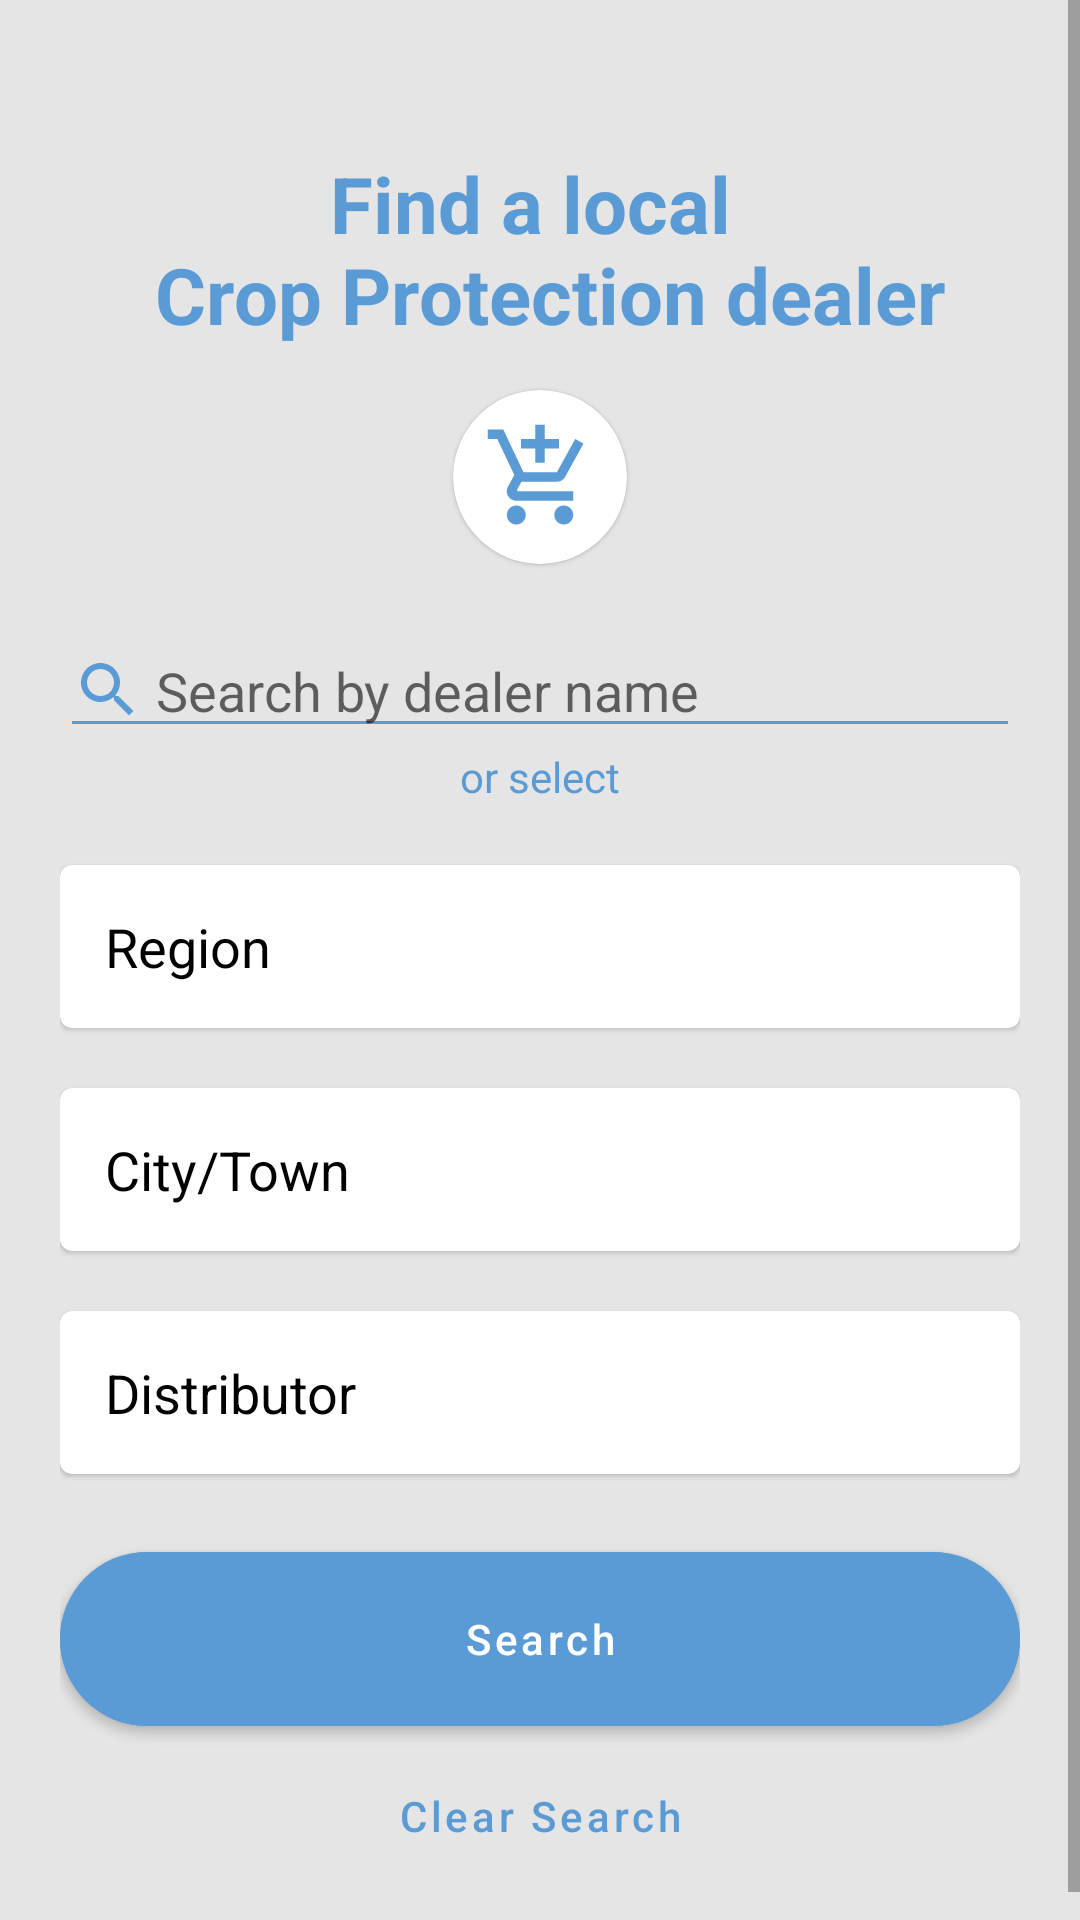

Screen size 1080x1920. Icon name, then its box in pixels as [left=x1, top=y1, right=x2, bottom=y2]:
add shopping: [left=487, top=424, right=584, bottom=525]
